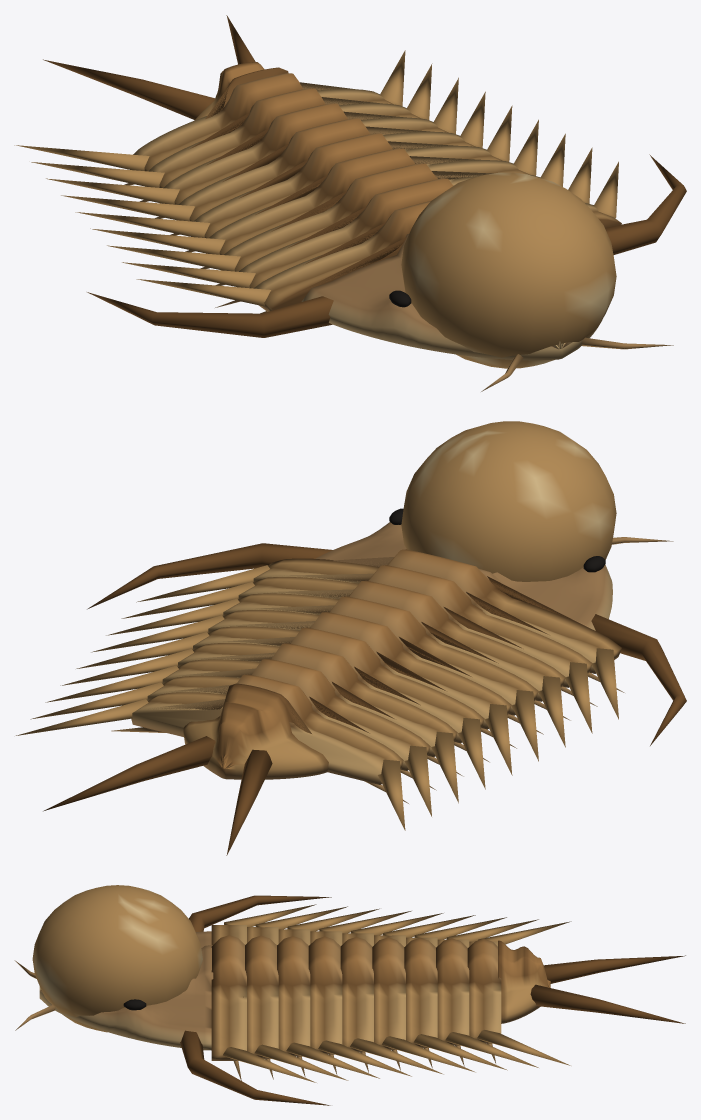
File: DeiphonForbesi.fbx
3 renders of one model, top to bottom at view 1: azimuth 30°, elevation 25°; view 2: azimuth 150°, elevation 25°; view 3: azimuth 270°, elevation 25°, orthographic. The views are drawn at different scales.
Visible parts, largest first — view 1: DeiphonForbesi; view 2: DeiphonForbesi; view 3: DeiphonForbesi.
Boxes of the visible parts, x1,y1,x2,y2 form: DeiphonForbesi: (14,15,686,391); DeiphonForbesi: (16,421,686,855); DeiphonForbesi: (14,885,685,1105).
Size of the model in its own units: 1.16 by 0.34 by 1.58.
